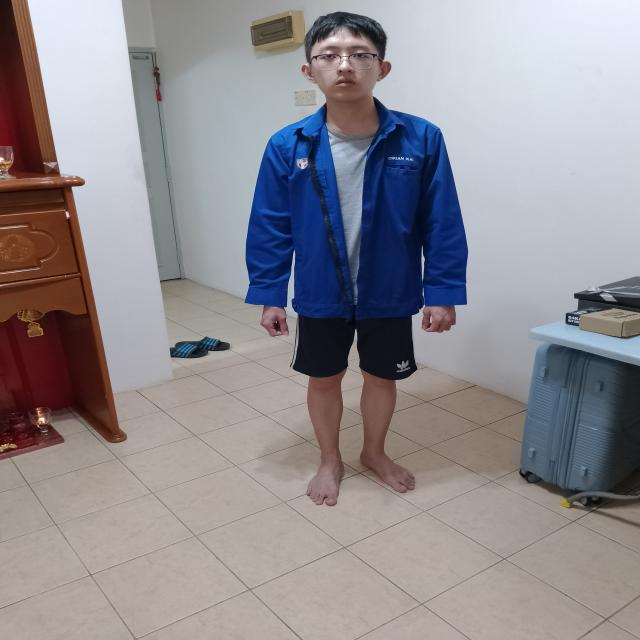person_with_labcoat: (245, 12, 467, 506)
